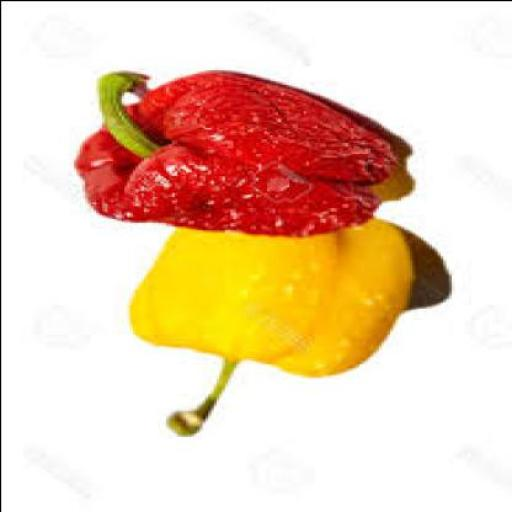biodegradable: (126, 217, 411, 438), (67, 74, 397, 240)
